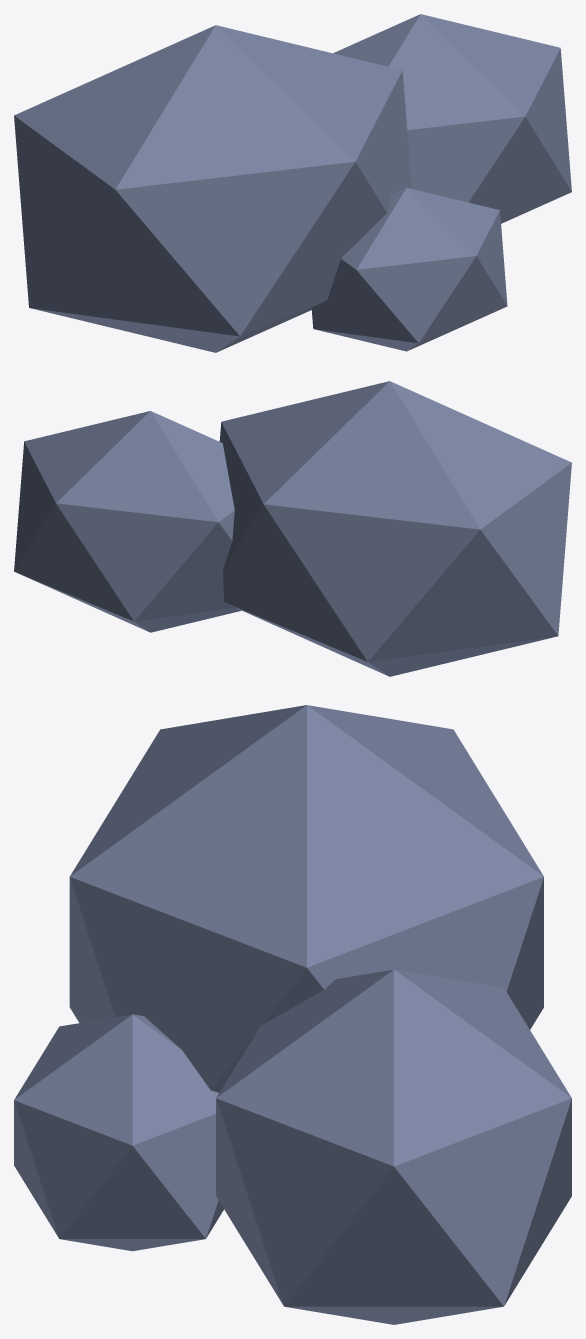
File: boulder_cluster.glb
The picture shows the model from 3 angles, top to bottom: view 1: azimuth 30°, elevation 25°; view 2: azimuth 150°, elevation 25°; view 3: azimuth 270°, elevation 25°; orthographic projection. The views are drawn at different scales.
Visible parts, largest first — view 1: Boulder, Boulder.001, Boulder.002; view 2: Boulder, Boulder.001; view 3: Boulder, Boulder.001, Boulder.002.
Boxes of the visible parts, x1=… form: Boulder: x1=14, y1=25, x2=411, y2=352; Boulder.001: x1=333, y1=14, x2=571, y2=223; Boulder.002: x1=311, y1=187, x2=507, y2=351; Boulder: x1=219, y1=381, x2=571, y2=676; Boulder.001: x1=14, y1=411, x2=241, y2=632; Boulder: x1=69, y1=705, x2=543, y2=1092; Boulder.001: x1=216, y1=969, x2=571, y2=1324; Boulder.002: x1=14, y1=1014, x2=223, y2=1251.
Size of the model in its own units: 2.15 by 1.2 by 1.28.
